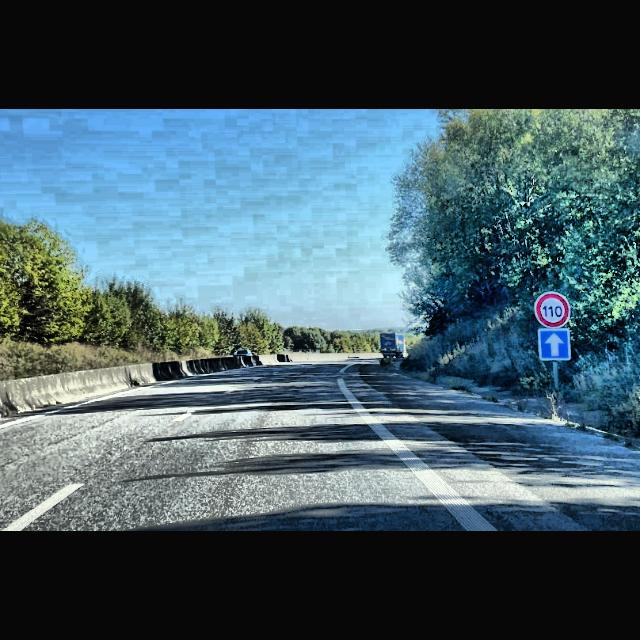speed_110: (535, 294, 571, 328)
